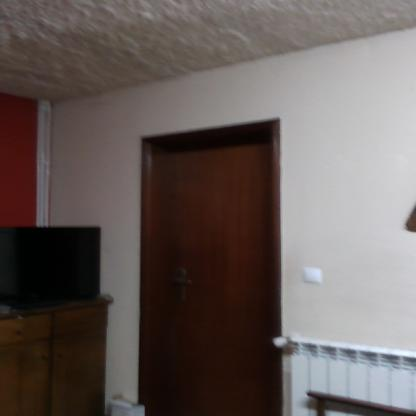door: (156, 147, 272, 416)
lever: (165, 276, 194, 288)
